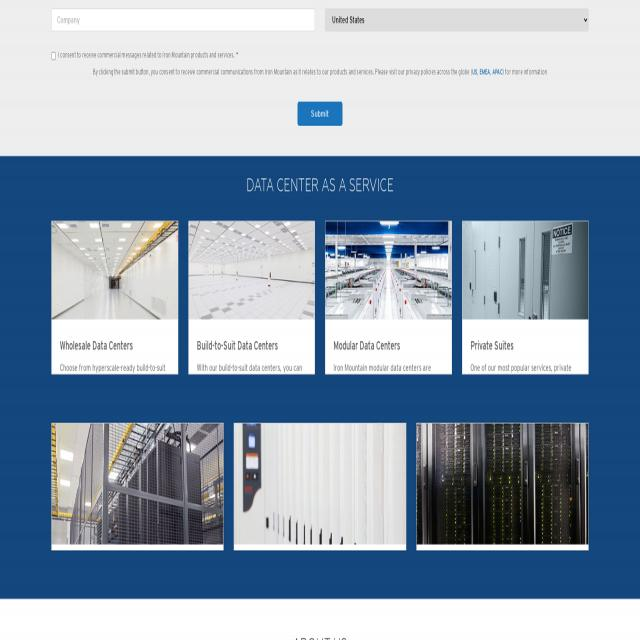button: (417, 424, 588, 551), (234, 424, 406, 550), (52, 424, 223, 550), (462, 222, 589, 374), (325, 222, 452, 374), (52, 222, 178, 374), (189, 222, 315, 374), (298, 102, 342, 126)
field: (51, 8, 315, 32), (325, 8, 589, 30), (51, 52, 56, 60)
